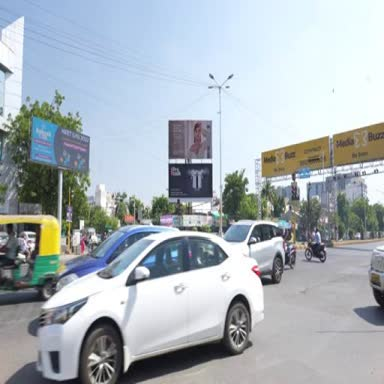Car: (37, 232, 263, 383), (54, 226, 177, 292), (224, 220, 284, 284), (369, 247, 383, 307), (18, 231, 35, 251), (97, 234, 101, 245)
